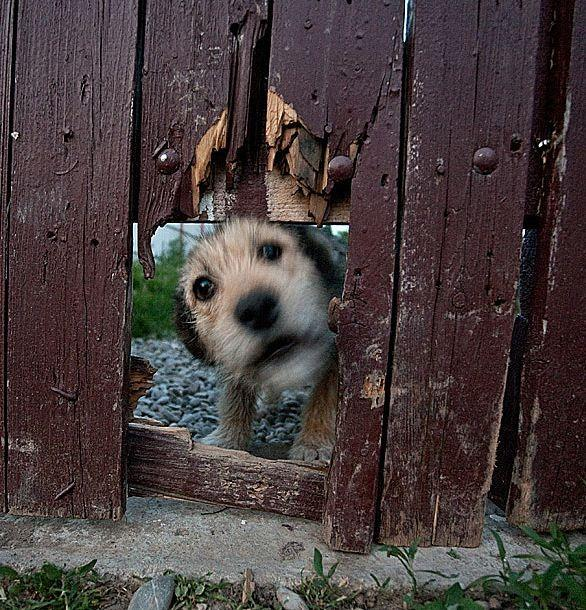puppy-dog: (169, 216, 348, 465)
